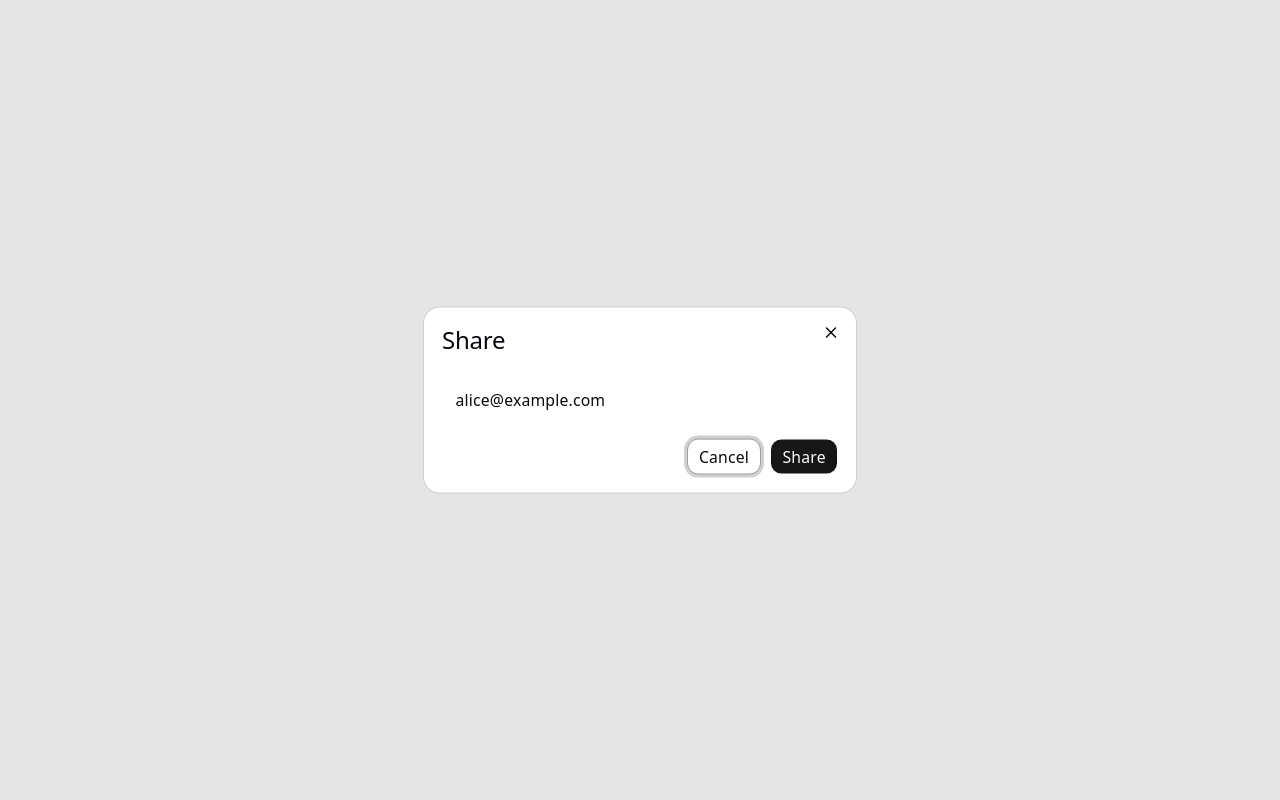
Test: ShareDialog › ShareDialog should show validation error when submitting without selecting a recipient
Click the button "Share". click: (804, 456)
box: [770, 438, 838, 474]
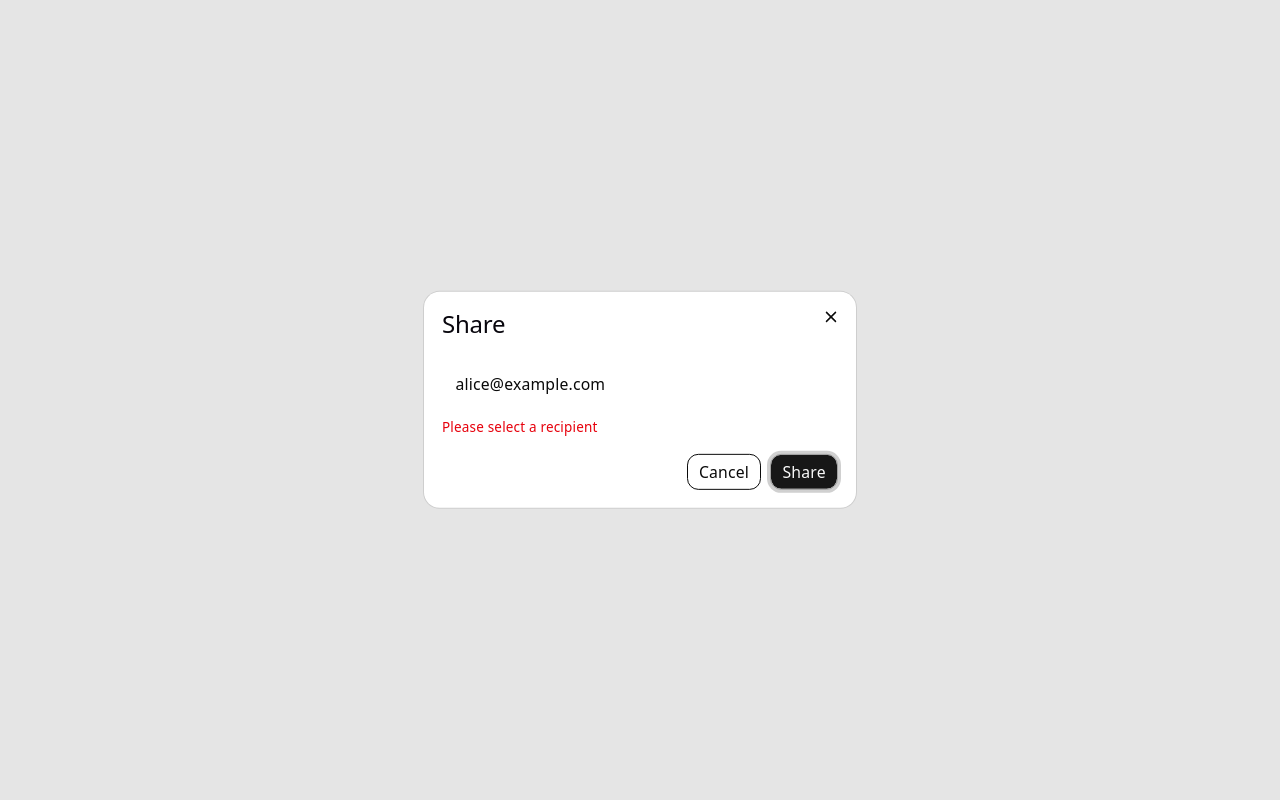
Expected: the text "Please select a recipient" is shown, [442, 418, 598, 436]
